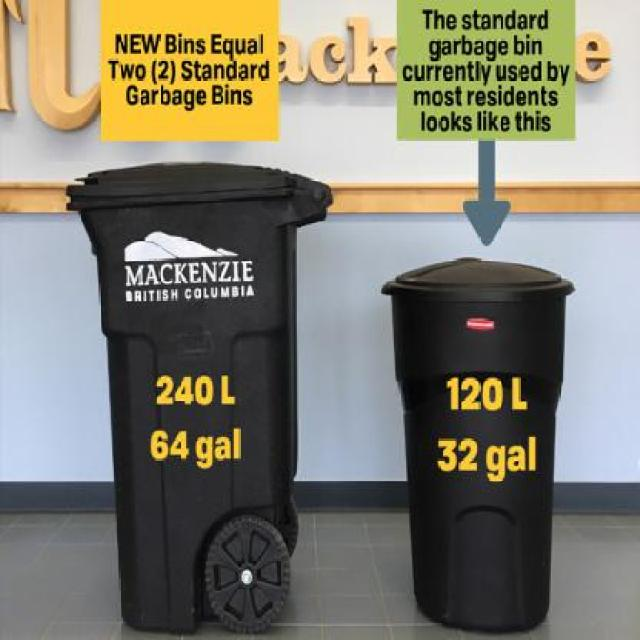garbage container: (61, 160, 342, 638), (373, 246, 602, 640)
